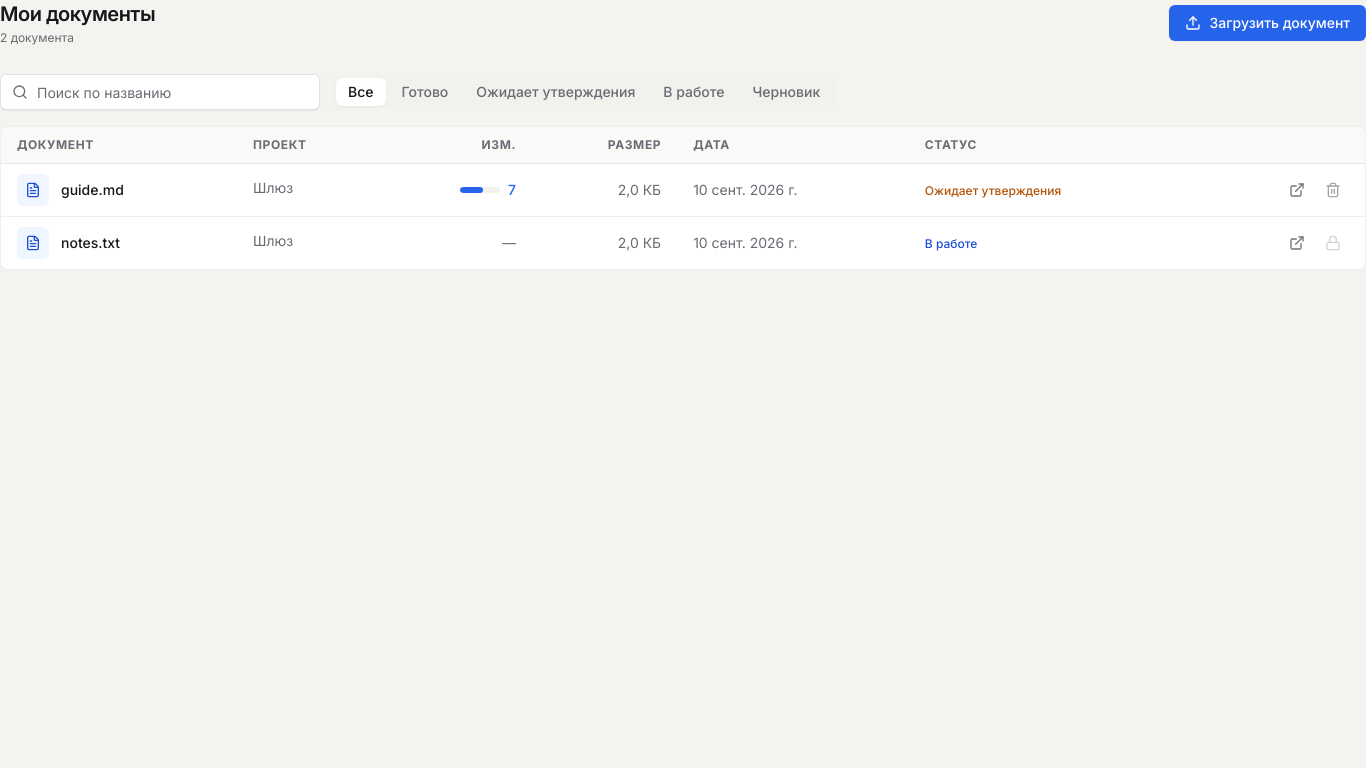
Test: Раздел «Мои документы» › удаляет документ после подтверждения
Click the button named "Удалить guide.md".
click(1333, 190)  # box [1317, 174, 1349, 206]
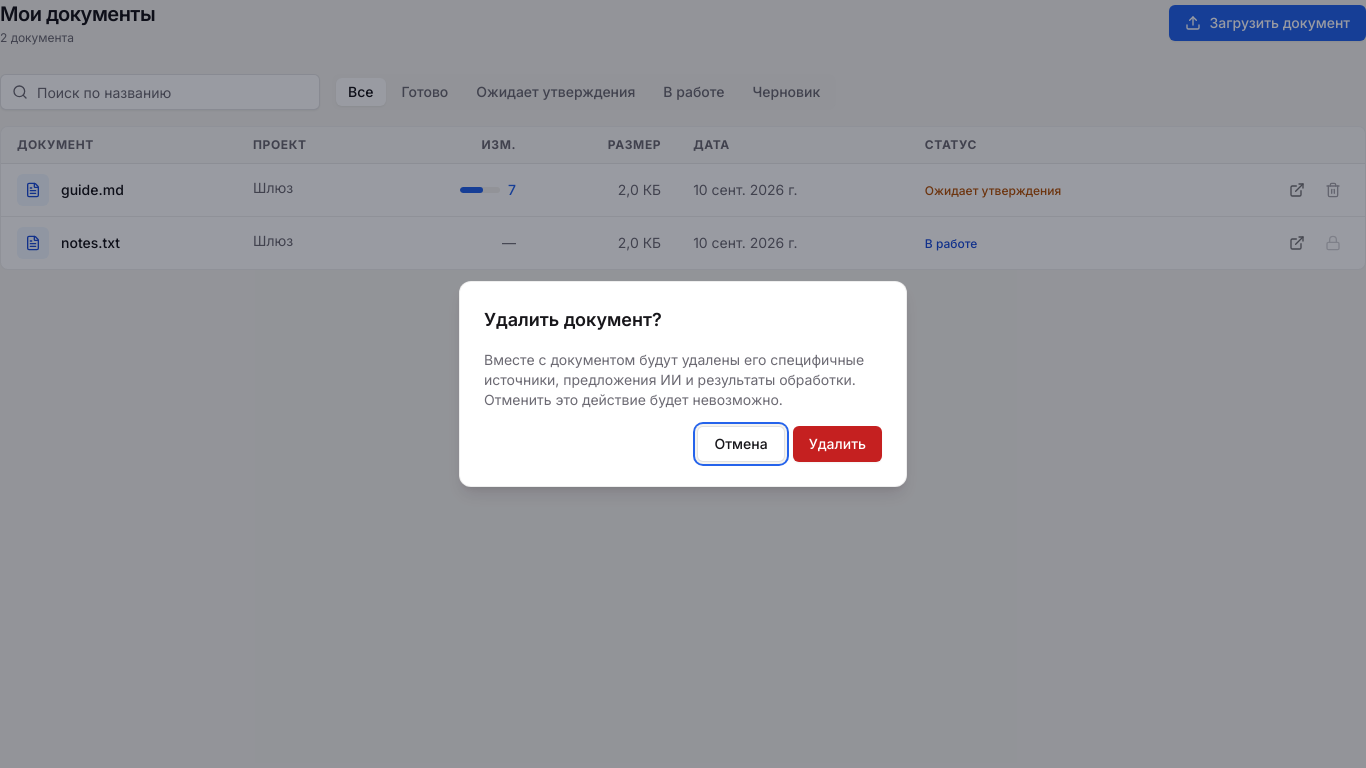
Expected: the text "Вместе с документом будут удалены его специфичные источники, предложения ИИ и результаты обработки. Отменить это действи" is shown, [484, 351, 864, 408]
Click the button "Удалить".
click(837, 444)  # box [793, 426, 882, 462]
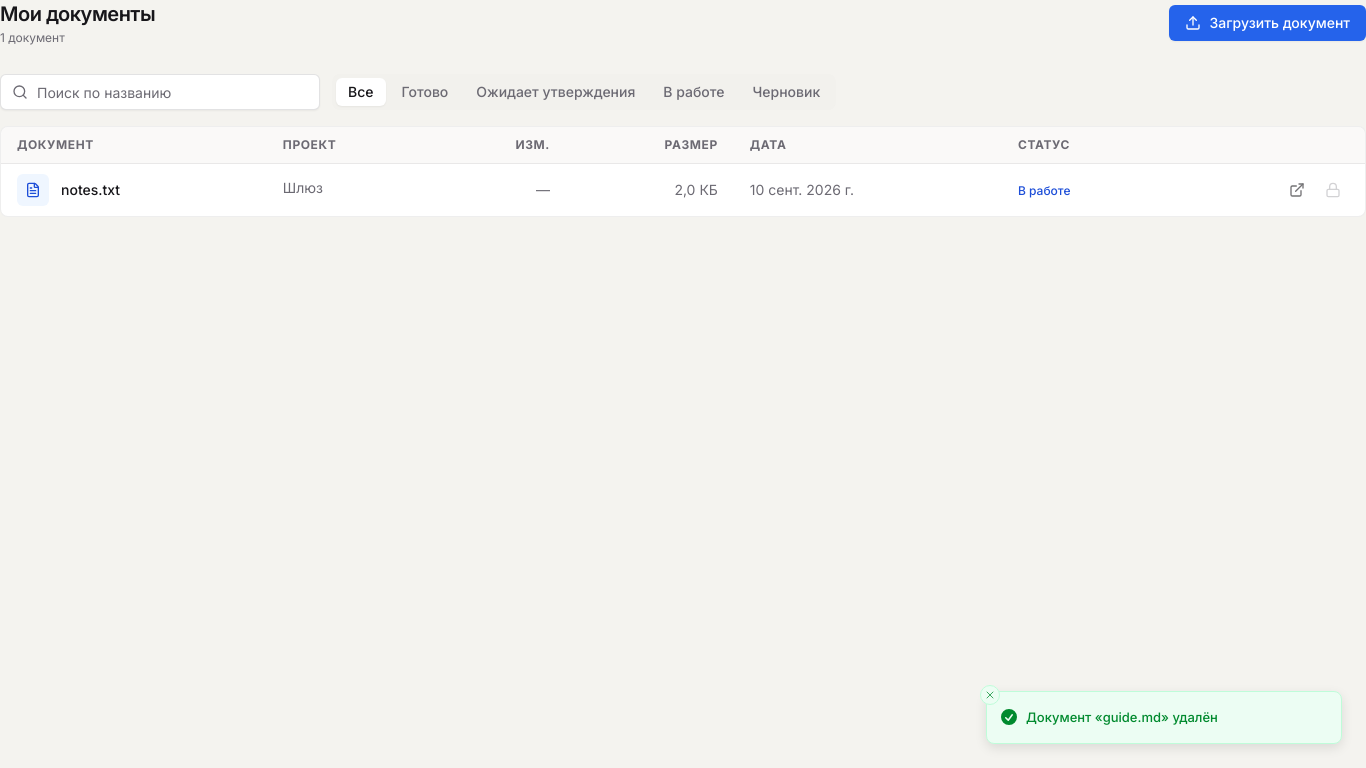
Expected: the text "1 документ" is shown, [0, 30, 65, 45]
